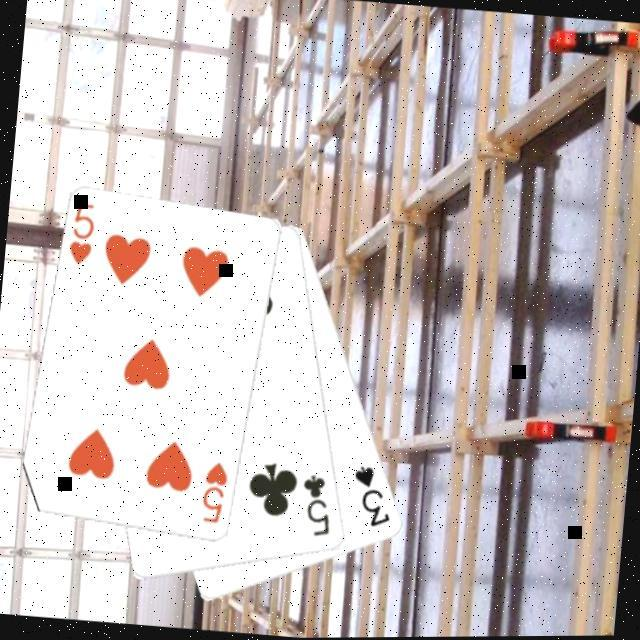3S: (345, 462, 397, 532)
5C: (294, 472, 337, 542)
5H: (63, 200, 99, 270), (196, 459, 232, 528)
